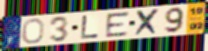3: (49, 15, 71, 43)
9: (163, 6, 185, 34)
E: (105, 10, 131, 38)
L: (80, 14, 101, 40)
O: (21, 18, 46, 45)
X: (133, 8, 162, 37)
